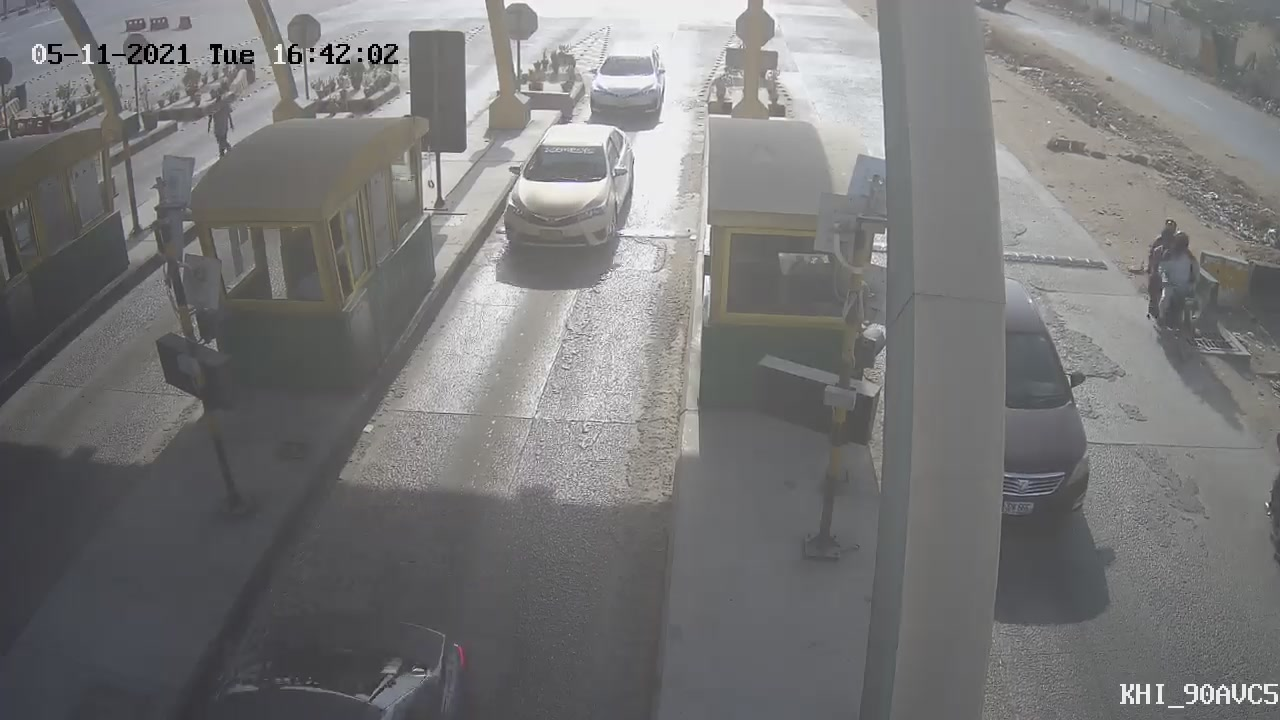F1: (485, 111, 650, 282), (577, 34, 678, 130)
